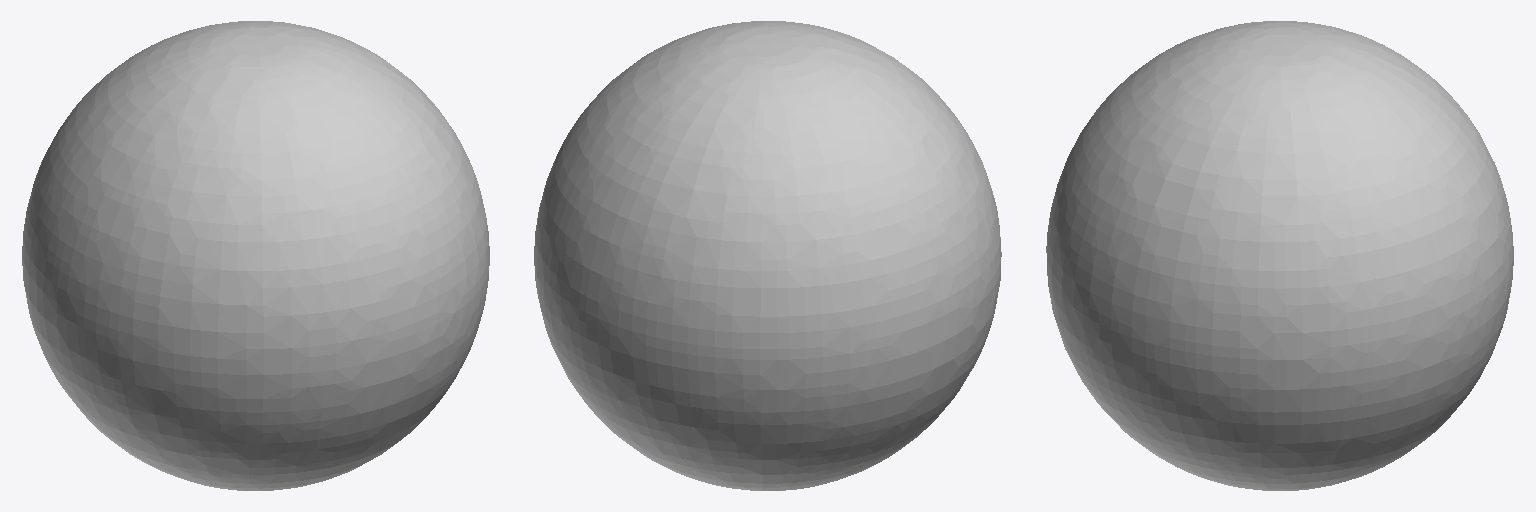
The model's file is skybox.obj.
The picture shows the model from 3 angles: view 1: azimuth 30°, elevation 25°; view 2: azimuth 150°, elevation 25°; view 3: azimuth 270°, elevation 25°; orthographic projection.
Parts seen in each view (by area): view 1: Sphere; view 2: Sphere; view 3: Sphere.
Boxes of the visible parts, x1=… form: Sphere: x1=22, y1=21, x2=489, y2=490; Sphere: x1=534, y1=21, x2=1001, y2=490; Sphere: x1=1046, y1=21, x2=1513, y2=490.
Bounding box in the file's own units: 334 × 333 × 334.